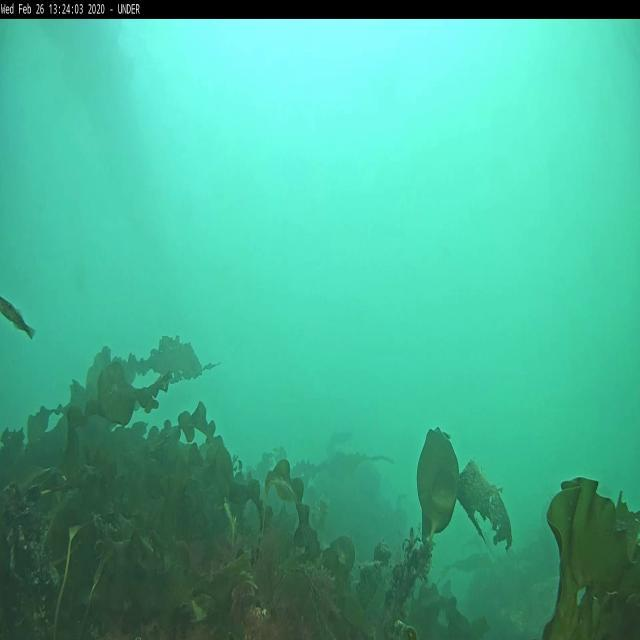fish: (1, 294, 34, 340)
